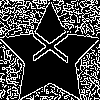X: (25, 30, 68, 63)
